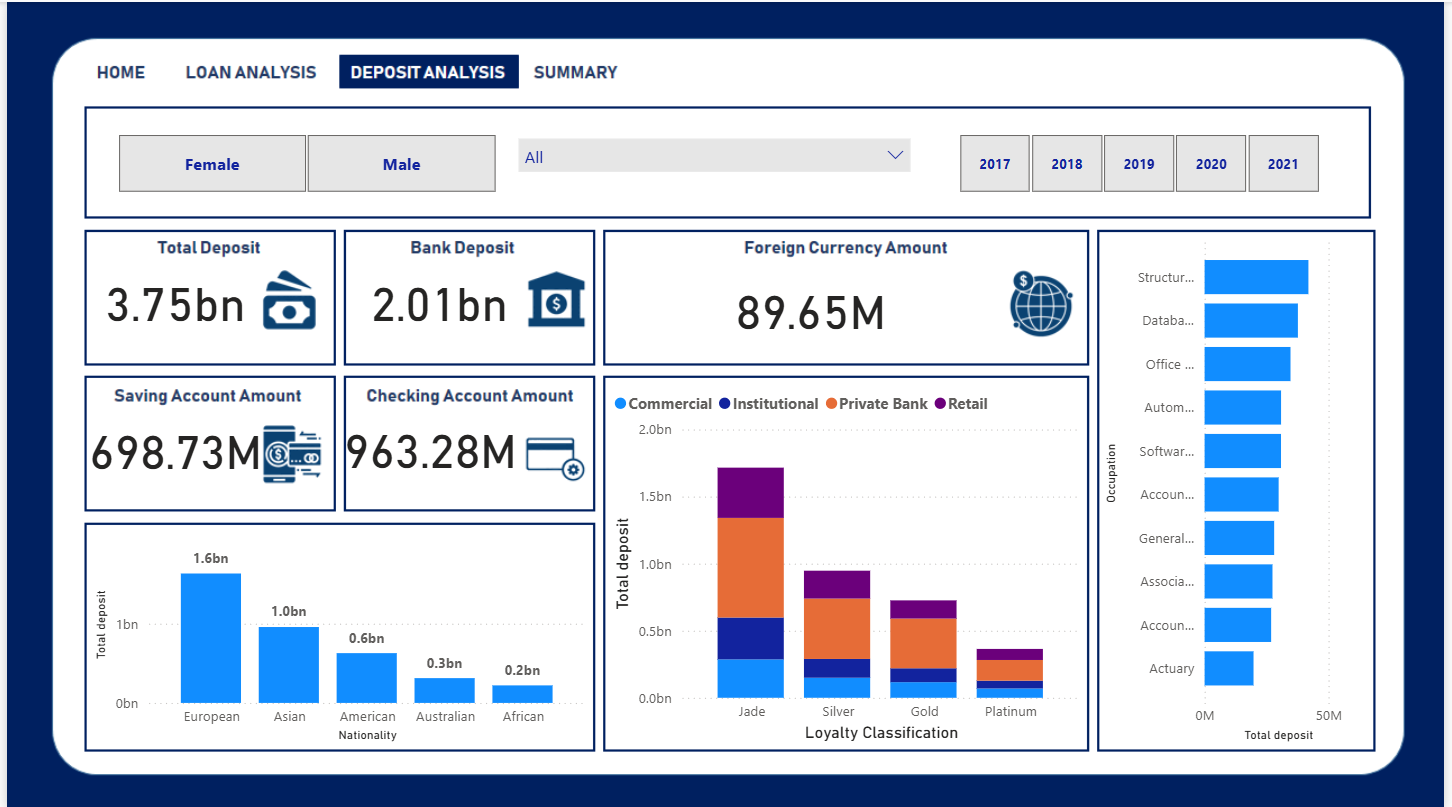

What the dashboard file says about the page in this screenshot:
{"tool":"powerbi","page":{"name":"Deposit Analysis","canvas":[1280,720],"ordinal":2},"visuals":[{"type":"card","fields":{"Values":["banking-clients.Total deposit"]},"box":[62,229.4,176,72.1],"z":0},{"type":"card","fields":{"Values":["Sum(banking-clients.Bank Deposits)"]},"box":[297.2,229.4,176,72.1],"z":1000},{"type":"card","fields":{"Values":["Sum(banking-clients.Saving Accounts)"]},"box":[62,360.7,176,72.1],"z":2000},{"type":"card","fields":{"Values":["Sum(banking-clients.Checking Accounts)"]},"box":[290,366.5,173.1,59.2],"z":3000},{"type":"actionButton","box":[61.5,48.3,78.4,29],"z":4000},{"type":"actionButton","box":[149.6,48.3,136.3,29],"z":5000},{"type":"actionButton","box":[463.3,48.3,86.9,29],"z":6000},{"type":"columnChart","fields":{"Y":["banking-clients.Total deposit"],"Category":["banking-clients.Nationality"]},"box":[73.6,470.3,447.3,193.3],"z":7000},{"type":"columnChart","fields":{"Y":["banking-clients.Total deposit"],"Category":["banking-clients.Loyalty Classification"],"Series":["banking-clients.BRId"]},"box":[535.3,337.6,425.6,326.1],"z":8000},{"type":"barChart","fields":{"Category":["banking-clients.Occupation"],"Y":["banking-clients.Total deposit"]},"box":[972.8,202,243.2,462.2],"z":9000},{"type":"slicer","fields":{"Values":["banking-clients.Year"]},"box":[822.4,111.1,369.3,64.9],"z":10000},{"type":"slicer","fields":{"Values":["banking-clients.GenderId"]},"box":[73.6,111.1,385.2,64.9],"z":11000},{"type":"slicer","fields":{"Values":["banking-clients.IAId"]},"box":[445.8,111.1,369.3,64.9],"z":12000},{"type":"card","fields":{"Values":["Sum(banking-clients.Foreign Currency Account)"]},"box":[561.2,242.4,310.2,59.2],"z":13000}]}

Visuals, with their boxes in screenshot pixels (x1, y1, x2, y2), scaled from the page's 1280x720 canvas onto the 1452x807 screenshot:
card - banking-clients.Total deposit: 70 257 270 338
card - Sum(banking-clients.Bank Deposits): 337 257 537 338
card - Sum(banking-clients.Saving Accounts): 70 404 270 485
card - Sum(banking-clients.Checking Accounts): 329 411 525 477
actionButton: 70 54 159 87
actionButton: 170 54 324 87
actionButton: 526 54 624 87
columnChart - banking-clients.Total deposit x banking-clients.Nationality: 83 527 591 744
columnChart - banking-clients.Total deposit x banking-clients.Loyalty Classification: 607 378 1090 744
barChart - banking-clients.Occupation x banking-clients.Total deposit: 1104 226 1379 744
slicer - banking-clients.Year: 933 125 1352 197
slicer - banking-clients.GenderId: 83 125 520 197
slicer - banking-clients.IAId: 506 125 925 197
card - Sum(banking-clients.Foreign Currency Account): 637 272 988 338
